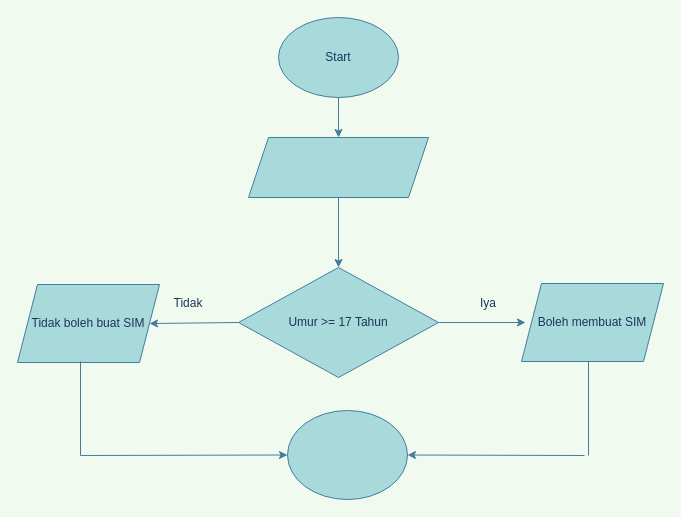
Some shapes in this 681 by 517 pixel diagram are drawn without their labels. Here are the shapes that lost their labels. From the top down, the centre of each, then its label:
point 338,167: Masukkan umur
point 347,455: End
